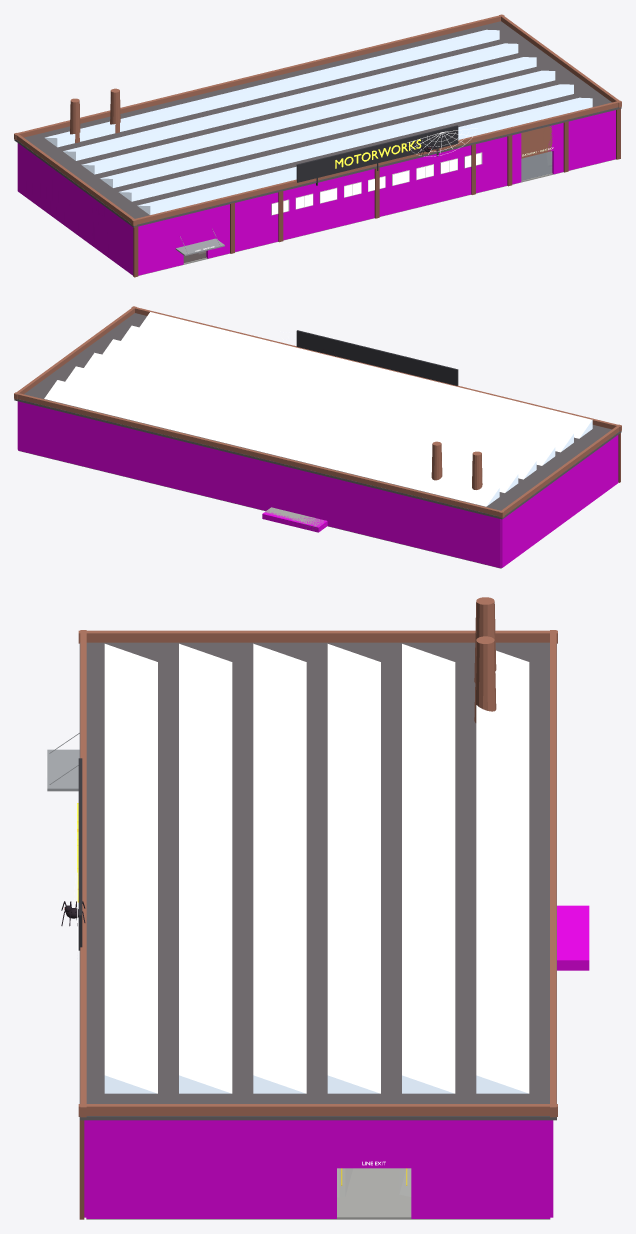
File: plant.glb
3 renders of one model, top to bottom at view 1: azimuth 30°, elevation 25°; view 2: azimuth 150°, elevation 25°; view 3: azimuth 270°, elevation 25°, orthographic. The views are drawn at different scales.
Parts seen in each view (by area): view 1: Roof_Slab, COL_Wall_N_2, Parapet, Skylight_1, Skylight_3, Skylight_4, Skylight_2, Skylight_0, COL_Wall_W_0, Skylight_5, COL_Wall_N_4, Sign_Frame (+13 smaller); view 2: COL_Wall_S_0, Skylight_0, Skylight_3, Skylight_5, Skylight_4, Skylight_2, Skylight_1, Parapet, COL_Wall_W_0, Roof_Slab, Sign_Frame, COL_Dock (+4 smaller); view 3: Roof_Slab, COL_Wall_E_2, Skylight_5, Skylight_2, Skylight_3, Skylight_4, Skylight_1, Skylight_0, Parapet, COL_Wall_E_0, Plant_Floor, COL_Wall_E_1 (+5 smaller).
Part boxes in pixels (left/top/right/bottom): Roof_Slab: left=14, top=21, right=621, bottom=227; COL_Wall_N_2: left=206, top=133, right=521, bottom=258; Parapet: left=14, top=14, right=621, bottom=225; Skylight_1: left=63, top=43, right=518, bottom=160; Skylight_3: left=100, top=70, right=555, bottom=187; Skylight_4: left=118, top=84, right=573, bottom=201; Skylight_2: left=81, top=57, right=536, bottom=174; Skylight_0: left=44, top=29, right=499, bottom=147; COL_Wall_W_0: left=17, top=143, right=133, bottom=275; Skylight_5: left=137, top=97, right=592, bottom=214; COL_Wall_N_4: left=552, top=110, right=615, bottom=174; Sign_Frame: left=296, top=125, right=458, bottom=185; COL_Wall_S_0: left=18, top=401, right=501, bottom=567; Skylight_0: left=44, top=380, right=499, bottom=506; Skylight_3: left=102, top=339, right=555, bottom=465; Skylight_5: left=139, top=312, right=592, bottom=438; Skylight_4: left=121, top=325, right=573, bottom=452; Skylight_2: left=84, top=352, right=536, bottom=479; Skylight_1: left=65, top=366, right=518, bottom=492; Parapet: left=14, top=306, right=621, bottom=517; COL_Wall_W_0: left=501, top=435, right=618, bottom=567; Roof_Slab: left=14, top=313, right=621, bottom=519; Sign_Frame: left=296, top=330, right=458, bottom=385; COL_Dock: left=262, top=511, right=327, bottom=532; Roof_Slab: left=79, top=642, right=556, bottom=1120; COL_Wall_E_2: left=86, top=1120, right=336, bottom=1218; Skylight_5: left=104, top=644, right=157, bottom=1093; Skylight_2: left=327, top=644, right=380, bottom=1093; Skylight_3: left=253, top=643, right=306, bottom=1093; Skylight_4: left=179, top=643, right=232, bottom=1093; Skylight_1: left=402, top=644, right=455, bottom=1093; Skylight_0: left=476, top=650, right=529, bottom=1093; Parapet: left=78, top=630, right=557, bottom=1117; COL_Wall_E_0: left=411, top=1120, right=550, bottom=1218; Plant_Floor: left=86, top=1168, right=550, bottom=1219; COL_Wall_E_1: left=337, top=1120, right=411, bottom=1168.
Bounding box in the file's own units: 122 × 22.24 × 58.48.
